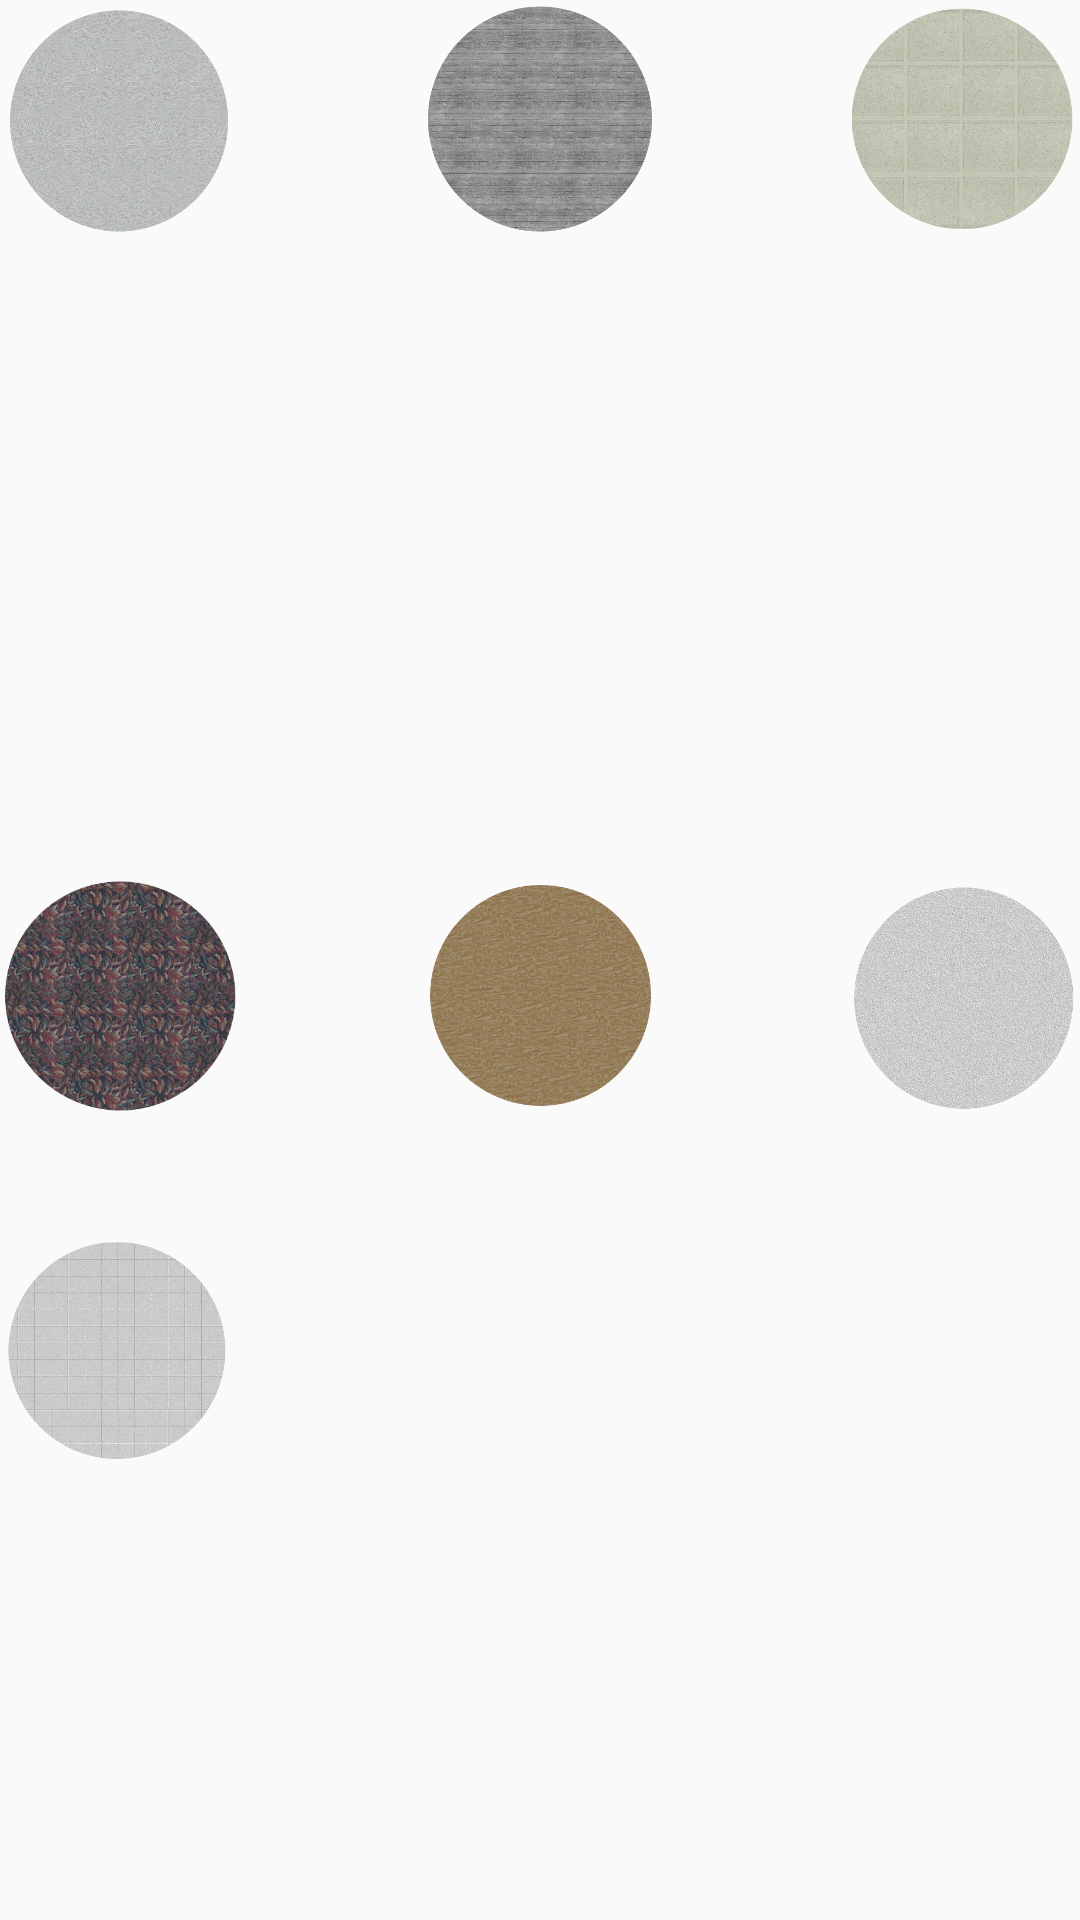

Icon bounding boxes for this 1080x1920 phone screenshot, format Rect(x1, y1, x2, y2):
techo concreto: Rect(428, 6, 652, 232), Rect(852, 9, 1072, 229), Rect(10, 10, 228, 232)
techo madera: Rect(430, 885, 651, 1106)
techo martillado: Rect(854, 887, 1073, 1109)
